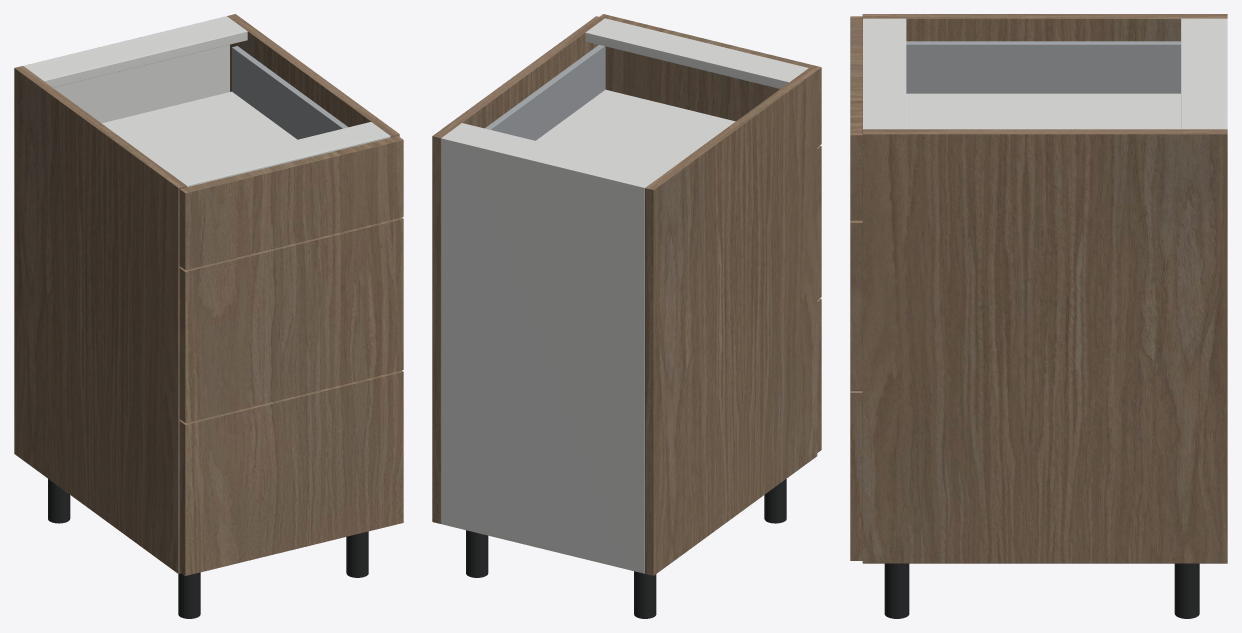
Rendered from oppein-pb-mnw-3db18.glb.
3 renders of one model, left to right at view 1: azimuth 30°, elevation 25°; view 2: azimuth 150°, elevation 25°; view 3: azimuth 270°, elevation 25°, orthographic. The views are drawn at different scales.
Parts seen in each view (by area): view 1: Cabinet side, Drawer front.001, Drawer front, Drawer front.002, Drawer floor.002, Cabinet back, Top support rail, Drawer side.005, Top support rail.001, Cabinet side.001, Adjustable foot.001, Adjustable foot.003 (+1 smaller); view 2: Cabinet back, Cabinet side, Drawer floor.002, Drawer front.002, Cabinet side.001, Top support rail.001, Drawer side.005, Top support rail, Cabinet bottom, Adjustable foot, Adjustable foot.002, Adjustable foot.001 (+2 smaller); view 3: Cabinet side.001, Drawer side.004, Drawer floor.002, Cabinet side, Top support rail.001, Top support rail, Drawer front.002, Drawer front.001, Drawer front, Adjustable foot.002, Adjustable foot.003, Cabinet back.
Boxes of the visible parts, <box> form: Cabinet side: <box>14,66,186,573</box>; Drawer front.001: <box>179,217,403,422</box>; Drawer front: <box>179,370,403,575</box>; Drawer front.002: <box>179,136,403,269</box>; Drawer floor.002: <box>102,91,297,171</box>; Cabinet back: <box>23,16,229,123</box>; Top support rail: <box>25,18,247,87</box>; Drawer side.005: <box>232,46,348,139</box>; Top support rail.001: <box>167,122,390,187</box>; Cabinet side.001: <box>227,14,399,137</box>; Adjustable foot.001: <box>178,572,200,618</box>; Adjustable foot.003: <box>346,531,368,577</box>; Cabinet back: <box>441,136,647,573</box>; Cabinet side: <box>645,68,817,575</box>; Drawer floor.002: <box>536,89,735,172</box>; Drawer front.002: <box>599,14,821,146</box>; Cabinet side.001: <box>432,16,604,523</box>; Top support rail.001: <box>585,18,808,88</box>; Drawer side.005: <box>485,45,605,140</box>; Top support rail: <box>444,123,665,185</box>; Cabinet bottom: <box>441,517,644,573</box>; Adjustable foot: <box>634,571,656,618</box>; Adjustable foot.002: <box>466,530,488,577</box>; Adjustable foot.001: <box>764,479,786,523</box>; Cabinet side.001: <box>862,129,1227,563</box>; Drawer side.004: <box>906,41,1180,93</box>; Drawer floor.002: <box>906,93,1180,129</box>; Cabinet side: <box>862,14,1227,41</box>; Top support rail.001: <box>862,18,906,129</box>; Top support rail: <box>1181,18,1220,129</box>; Drawer front.002: <box>850,16,862,220</box>; Drawer front.001: <box>850,220,862,390</box>; Drawer front: <box>850,391,862,560</box>; Adjustable foot.002: <box>1174,563,1199,618</box>; Adjustable foot.003: <box>884,563,909,618</box>; Cabinet back: <box>1220,18,1227,129</box>.
Bounding box in the file's own units: 0.4572 × 0.8763 × 0.6064.
4 materials, 1 textured.
